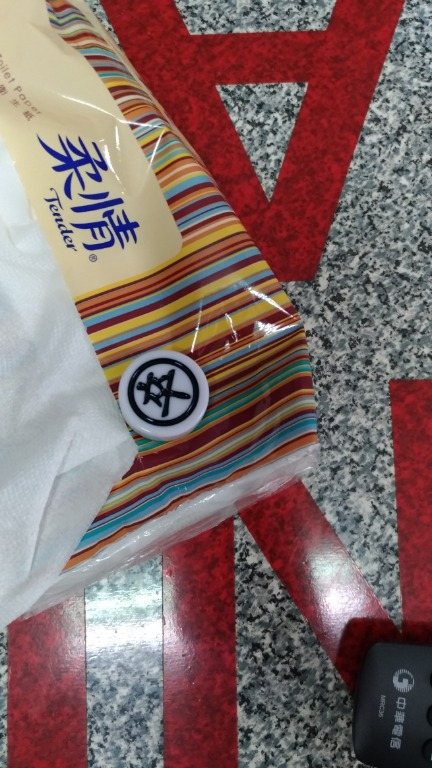b-pawn: (109, 341, 237, 449)
